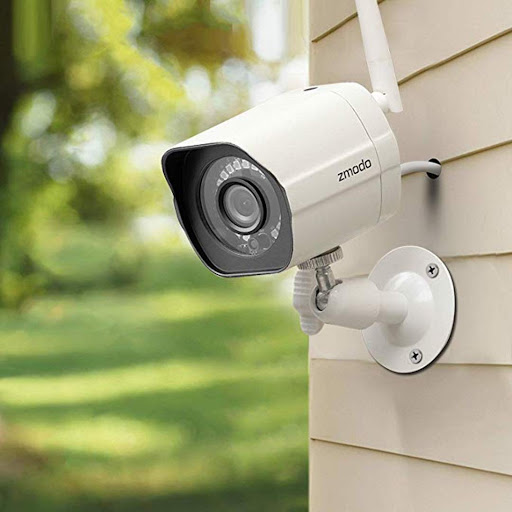Nest Cam: (157, 64, 415, 288)
